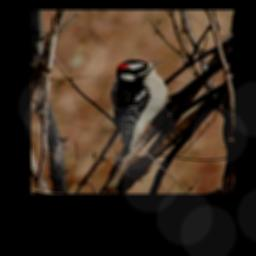Woodpecker: (111, 60, 173, 159)
